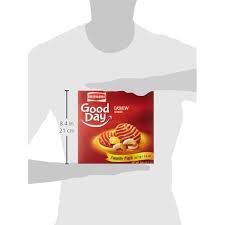gooday-medium: (72, 88, 157, 162)
